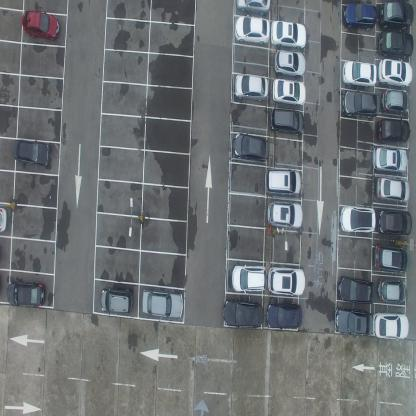car: (142, 288, 183, 320), (222, 299, 264, 330), (21, 9, 60, 41), (268, 265, 306, 297), (334, 307, 374, 337), (6, 279, 47, 308), (342, 0, 376, 34), (374, 241, 409, 274), (234, 14, 270, 46), (338, 274, 376, 304), (271, 19, 307, 50), (232, 132, 268, 163), (231, 263, 268, 293), (264, 167, 302, 196), (13, 139, 51, 168), (342, 90, 380, 119), (266, 200, 302, 230), (378, 30, 414, 60), (377, 58, 413, 88), (373, 310, 409, 340), (266, 301, 303, 330), (272, 77, 306, 108), (373, 144, 408, 174), (378, 0, 414, 29), (340, 205, 376, 234), (234, 73, 268, 103), (342, 59, 376, 88), (378, 208, 412, 237), (270, 108, 305, 136), (274, 49, 306, 79), (100, 287, 134, 314), (376, 176, 410, 203), (378, 117, 410, 143), (378, 277, 407, 304), (381, 89, 410, 112), (236, 0, 272, 17), (0, 206, 7, 233)
